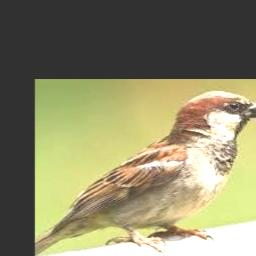Sparrow: (35, 90, 256, 256)
